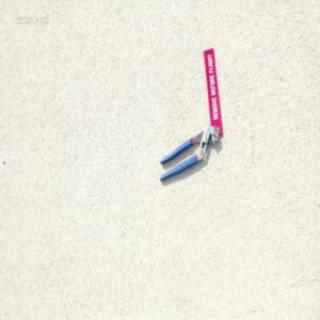LuggageTagtrack_idkeyframe: (200, 47, 220, 135)
Pliertrack_idkeyframe: (155, 124, 215, 182)
